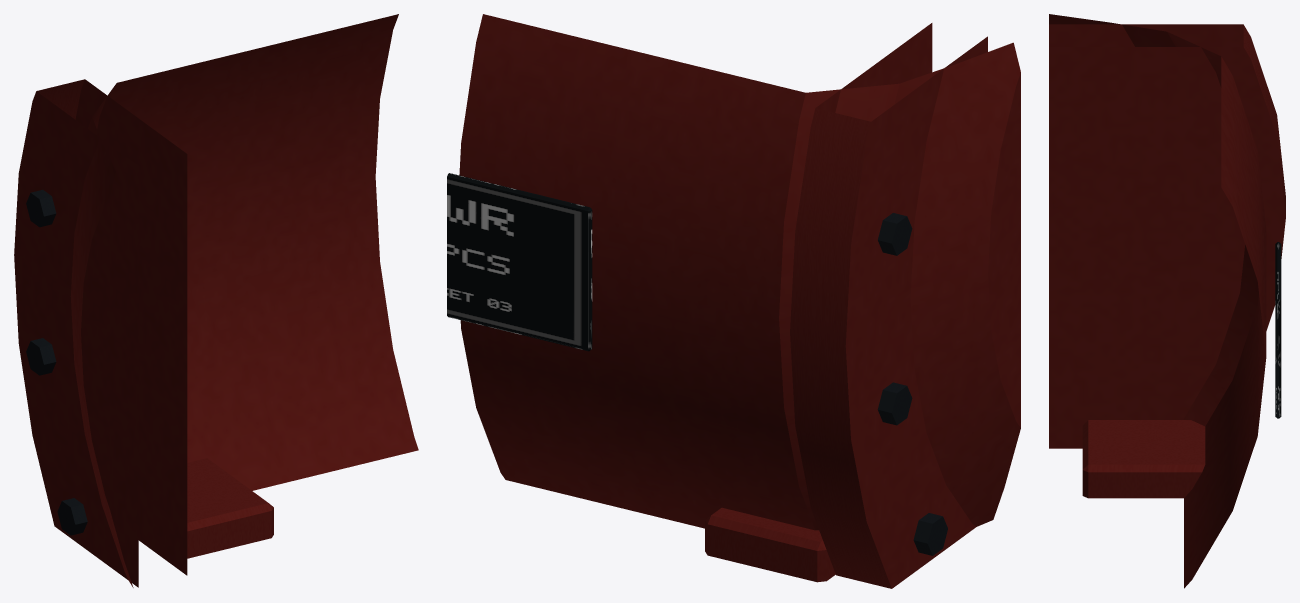
File: cell_25.obj
3 renders of one model, left to right at view 1: azimuth 30°, elevation 25°; view 2: azimuth 150°, elevation 25°; view 3: azimuth 270°, elevation 25°, orthographic. The views are drawn at different scales.
Visible parts, largest first — view 1: cell_25; view 2: cell_25; view 3: cell_25.
Boxes of the visible parts, x1=… form: cell_25: x1=14, y1=14, x2=418, y2=587; cell_25: x1=447, y1=14, x2=1020, y2=588; cell_25: x1=1049, y1=14, x2=1285, y2=588.
Bounding box in the file's own units: 0.9425 × 1 × 0.5346.
